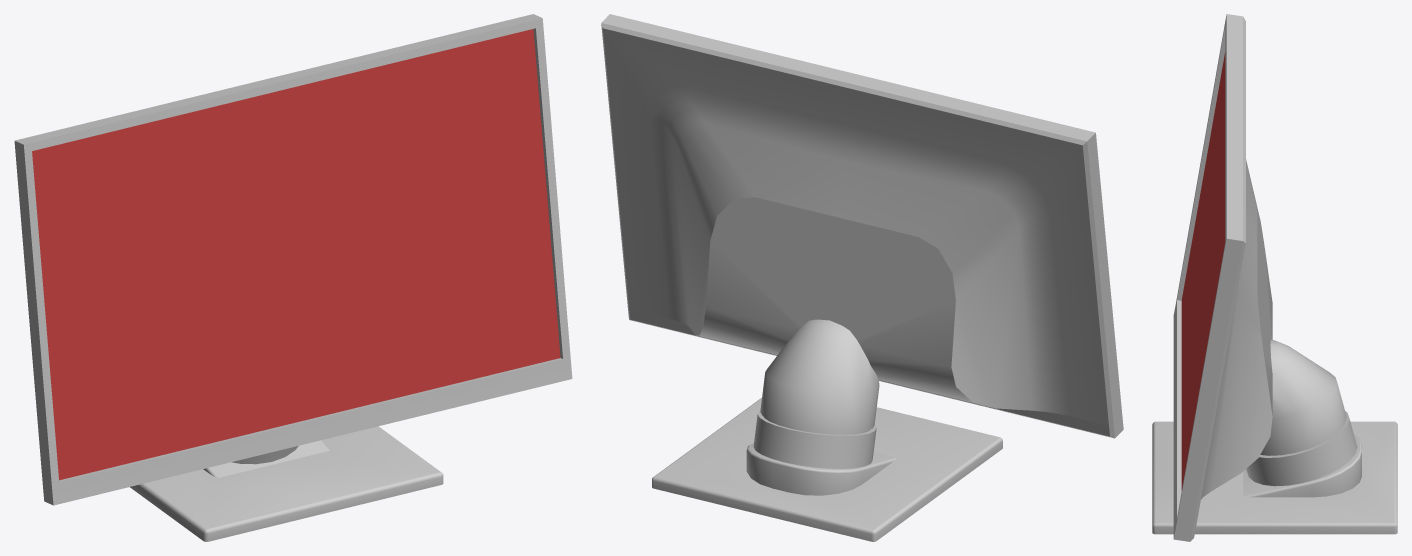
File: Airport_Monitor_1.fbx
The picture shows the model from 3 angles, left to right: view 1: azimuth 30°, elevation 25°; view 2: azimuth 150°, elevation 25°; view 3: azimuth 270°, elevation 25°; orthographic projection. The views are drawn at different scales.
Parts seen in each view (by area): view 1: Airport_Monitor_1; view 2: Airport_Monitor_1; view 3: Airport_Monitor_1.
Part boxes in pixels (x1,y1,x2,y2): Airport_Monitor_1: (14,14,572,541); Airport_Monitor_1: (601,14,1123,541); Airport_Monitor_1: (1152,14,1397,541).
Bounding box in the file's own units: 51.74 × 38.24 × 23.87.
